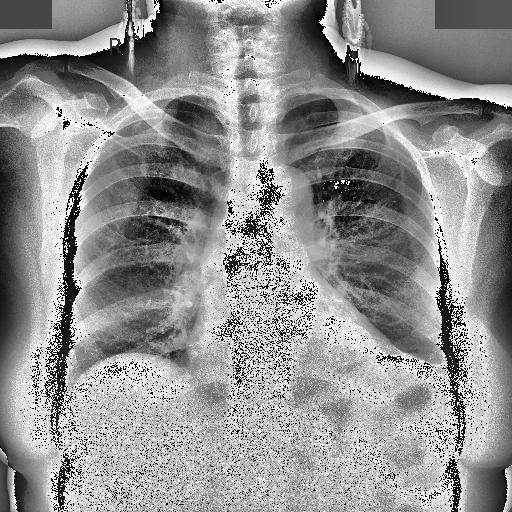0- Aortic enlargement: (260, 162, 312, 226), (254, 163, 314, 214), (273, 166, 313, 204)
13- Pulmonary fibrosis: (429, 360, 450, 370), (432, 362, 452, 370)
3- Cardiomegaly: (184, 314, 400, 376), (189, 322, 405, 372)
9- Other lesion: (322, 354, 454, 404), (432, 362, 452, 370)
